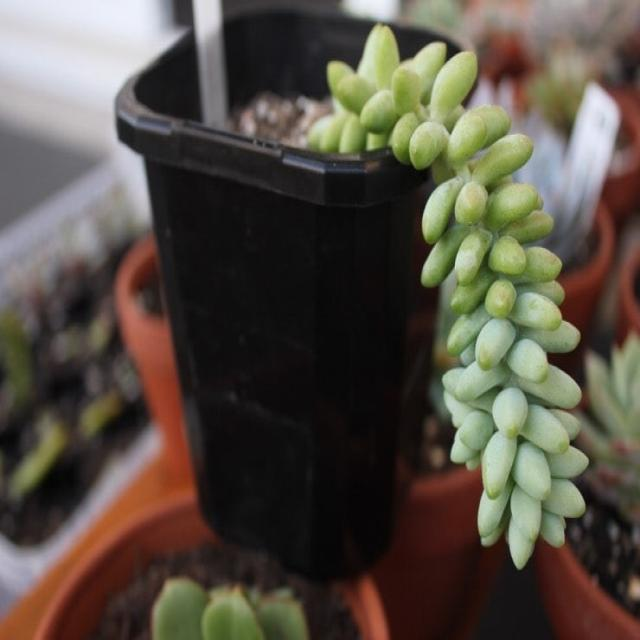Sedum: (309, 24, 588, 568)
